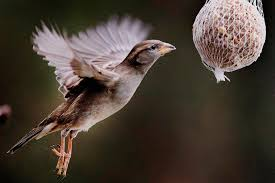hsparrow: (7, 19, 182, 177)
